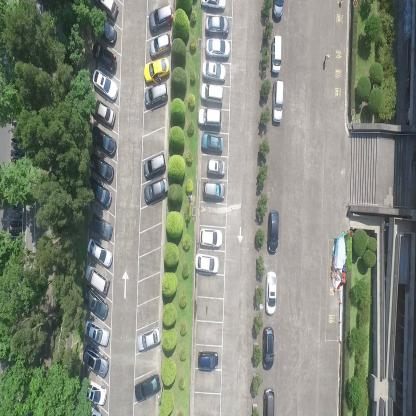car: (82, 286, 109, 322), (133, 371, 162, 404), (82, 344, 110, 378), (84, 176, 112, 209), (89, 96, 116, 130), (91, 68, 118, 102), (84, 264, 110, 298), (90, 126, 117, 158), (91, 41, 117, 74), (86, 238, 113, 269), (88, 152, 114, 184), (143, 56, 170, 85), (136, 324, 162, 354), (86, 212, 112, 242), (149, 2, 173, 34), (93, 15, 118, 45), (143, 82, 169, 110), (143, 178, 169, 206), (84, 319, 110, 347), (82, 376, 106, 406), (193, 251, 219, 276), (148, 32, 172, 58), (143, 153, 166, 180), (262, 326, 276, 370), (271, 78, 284, 125), (266, 207, 279, 254), (264, 271, 277, 317), (204, 38, 230, 60), (202, 60, 227, 82), (204, 14, 230, 35), (202, 179, 226, 201), (199, 82, 223, 104), (197, 107, 222, 128), (200, 131, 223, 153), (270, 32, 282, 74), (199, 227, 223, 248), (94, 0, 118, 20), (198, 349, 218, 372), (262, 386, 276, 415), (206, 158, 226, 177), (271, 0, 285, 25), (200, 0, 225, 12)
